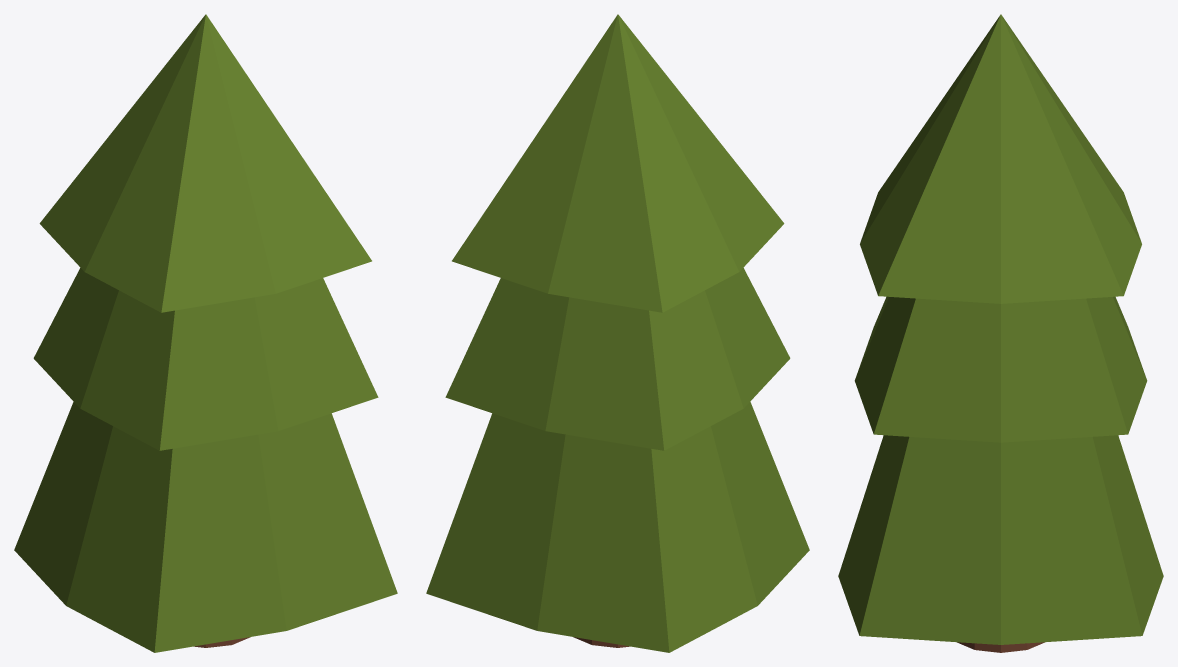
Rendered from Tree_23_autumn_vc.fbx.
3 views of the same model, side by side, from view 1: azimuth 30°, elevation 25°; view 2: azimuth 150°, elevation 25°; view 3: azimuth 270°, elevation 25° (orthographic).
Parts seen in each view (by area): view 1: Tree_23_autumn_vc; view 2: Tree_23_autumn_vc; view 3: Tree_23_autumn_vc.
Boxes of the visible parts, x1,y1,x2,y2 form: Tree_23_autumn_vc: (14, 14, 397, 652); Tree_23_autumn_vc: (426, 14, 809, 652); Tree_23_autumn_vc: (838, 14, 1163, 652).
Bounding box in the file's own units: 2.34 × 4.9 × 2.34.
